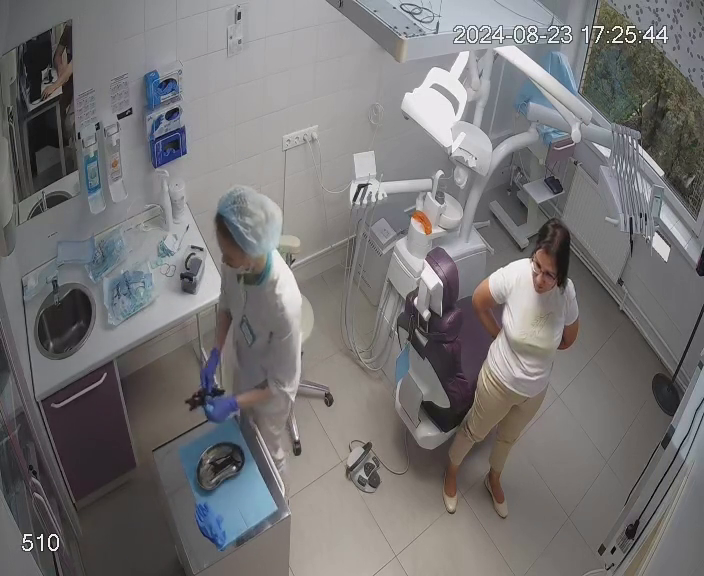Empty: (393, 251, 503, 454)
